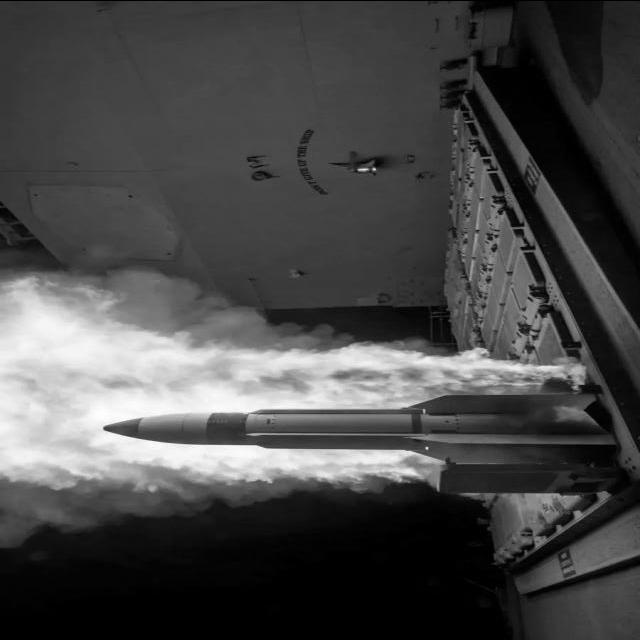missile: (95, 390, 611, 461), (237, 408, 540, 441)
